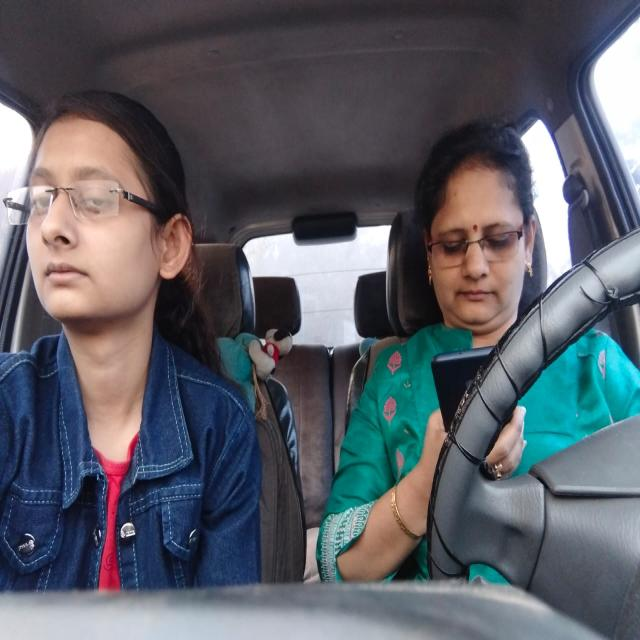mobile: (427, 344, 521, 451)
person: (0, 65, 190, 361), (410, 116, 545, 337)
